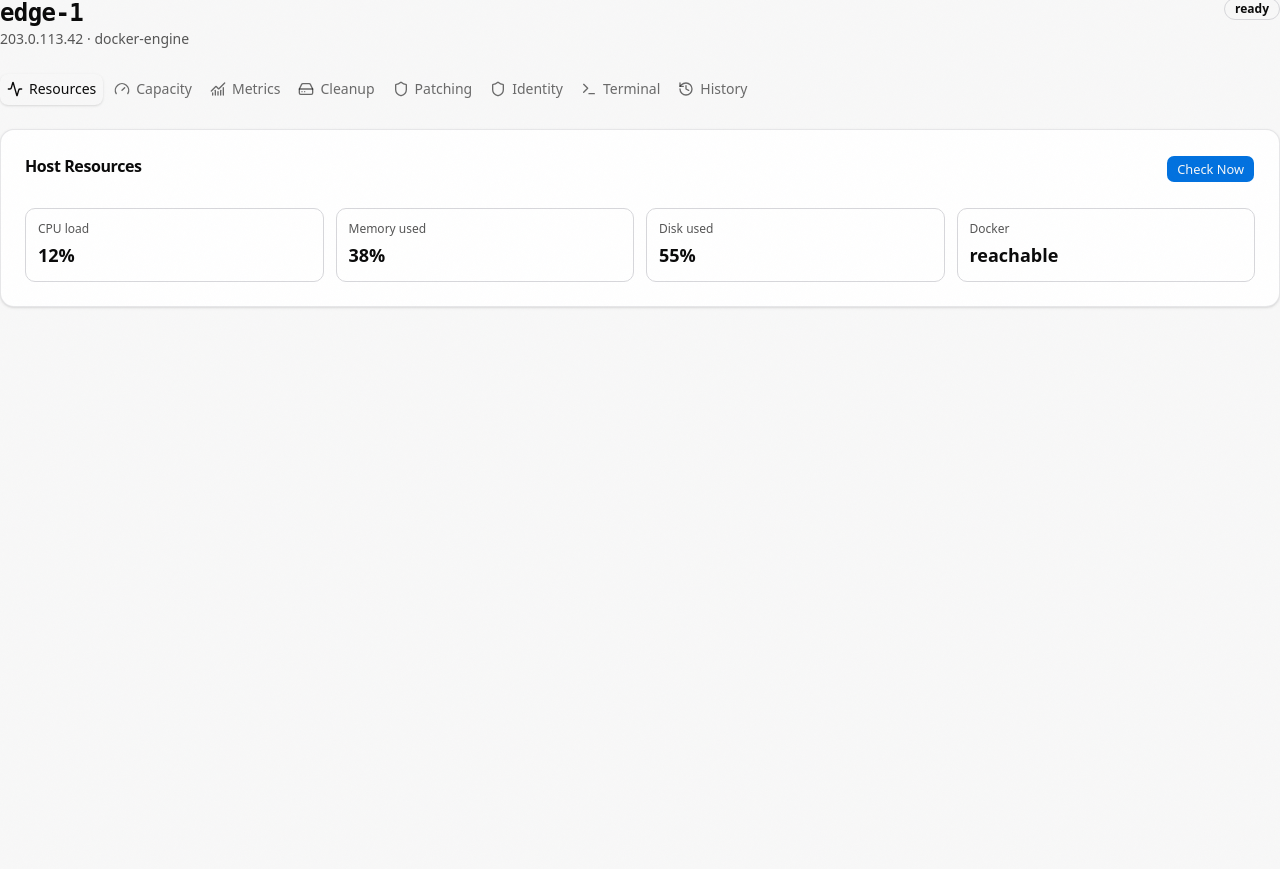
Test: ServerDetailPage › keeps metrics policy read-only for operators even with server write access
Click the tab with test id "server-detail-metrics-tab-srv_1" at {"x": 245, "y": 89}, box [203,74,288,104]
(page scrolled)
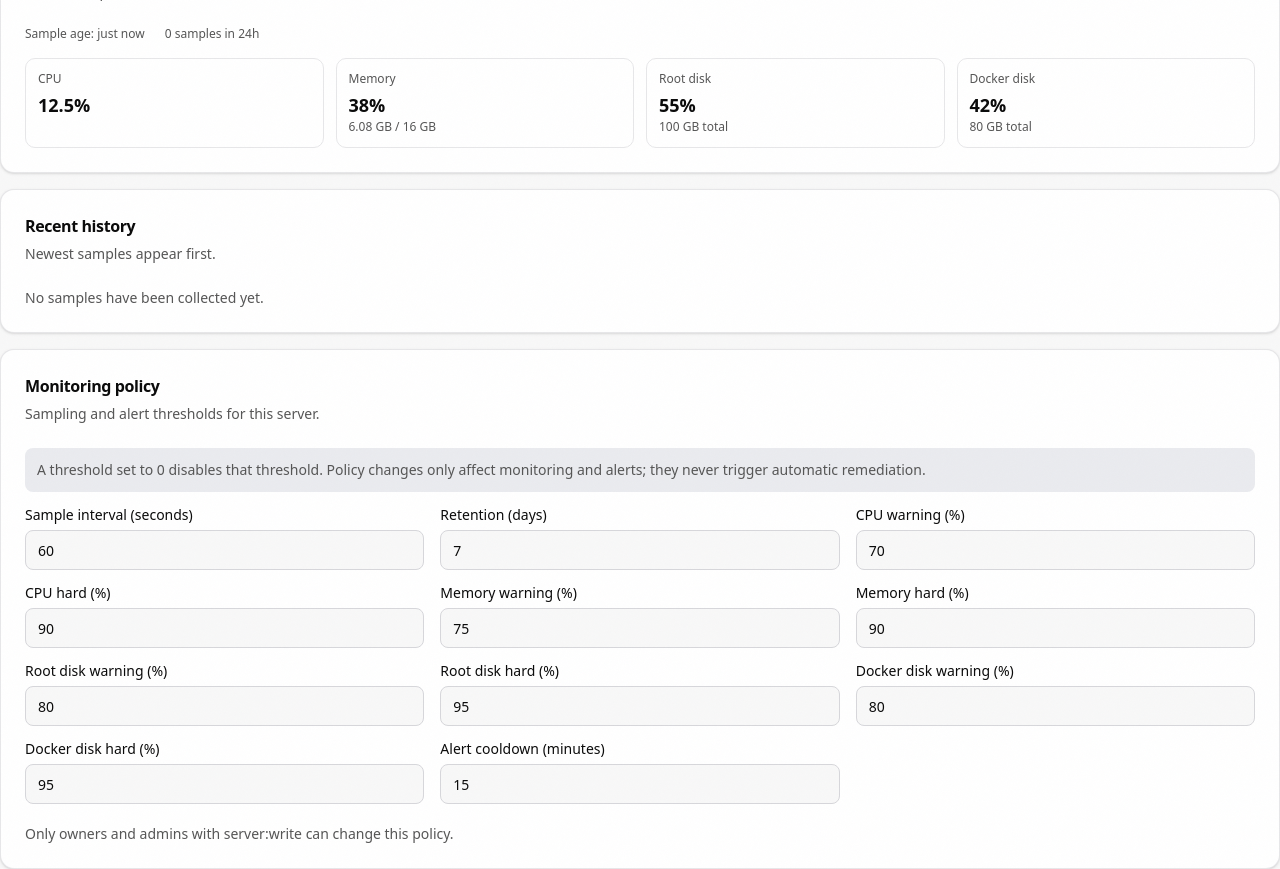
Now the text with test id "server-metrics-read-only-srv_1" is shown, box [25,824,454,843]
